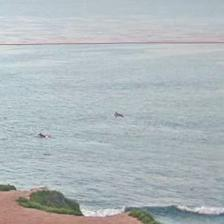surfer: (114, 112, 124, 117), (38, 133, 48, 138)
